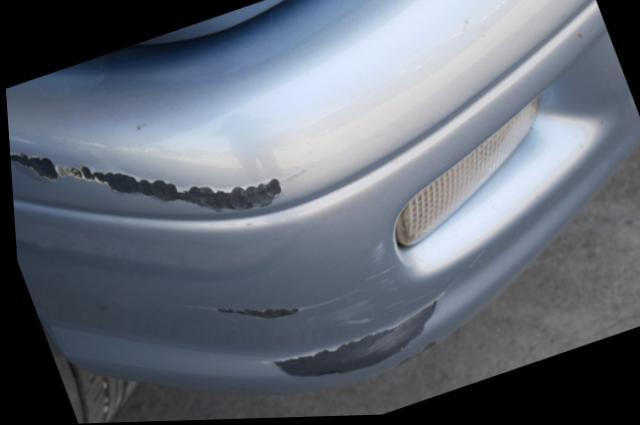scratch: (176, 241, 393, 331), (8, 146, 283, 217), (261, 301, 440, 383)
